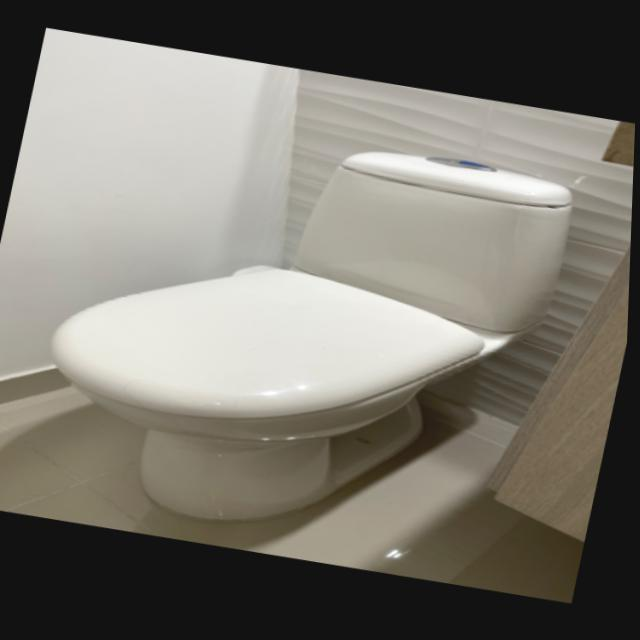toilet: (19, 94, 584, 576)
